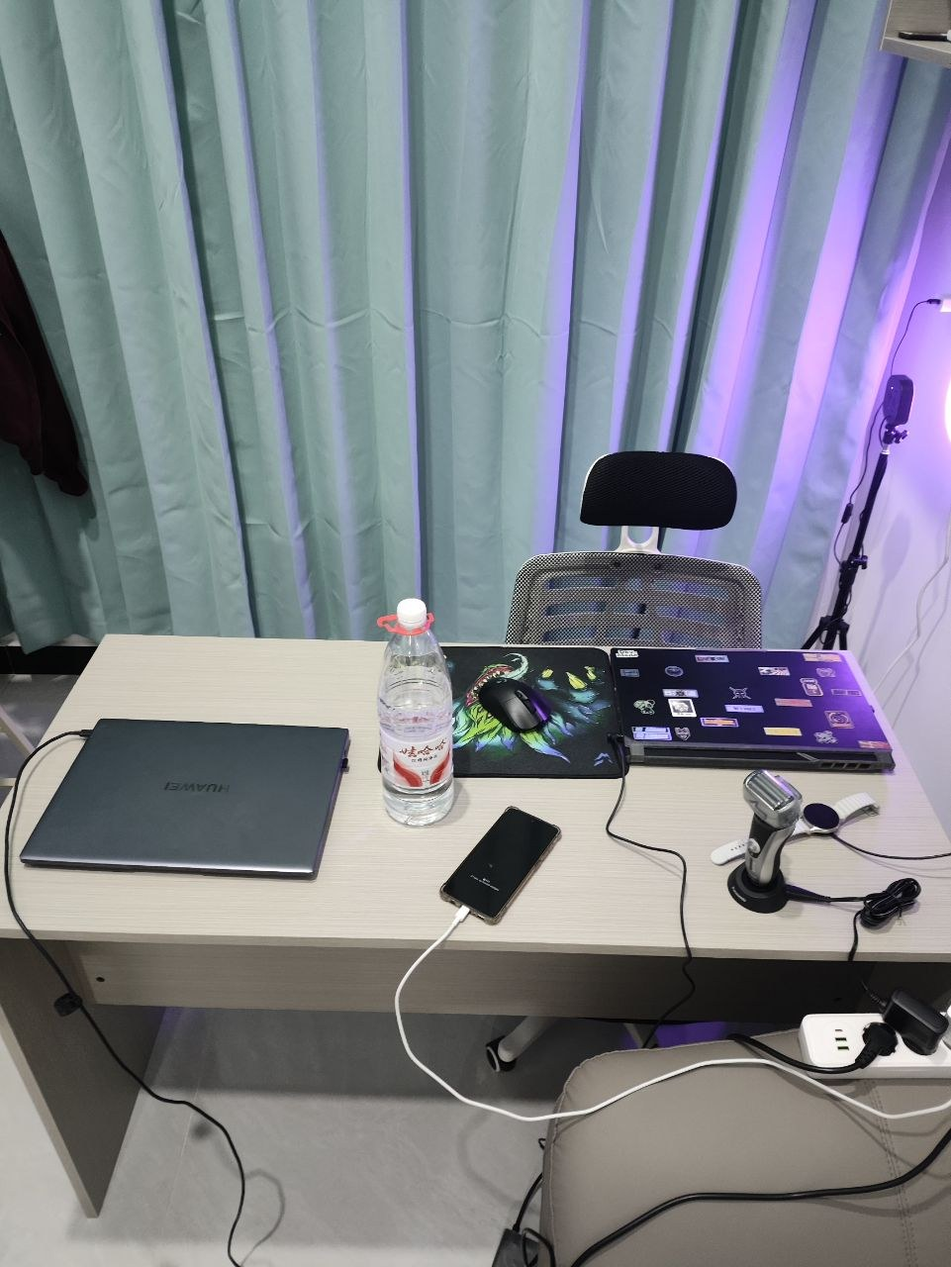cell phone: (440, 805, 562, 925)
laptop: (19, 717, 350, 879), (609, 647, 895, 772)
